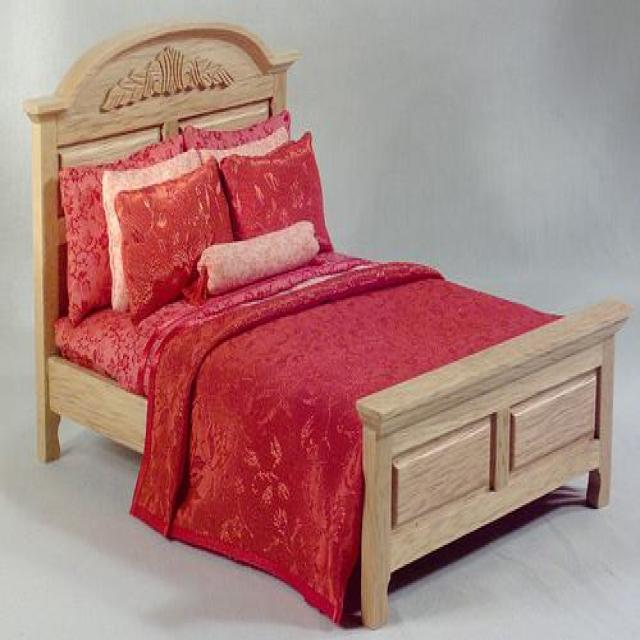bed: (24, 17, 632, 628)
